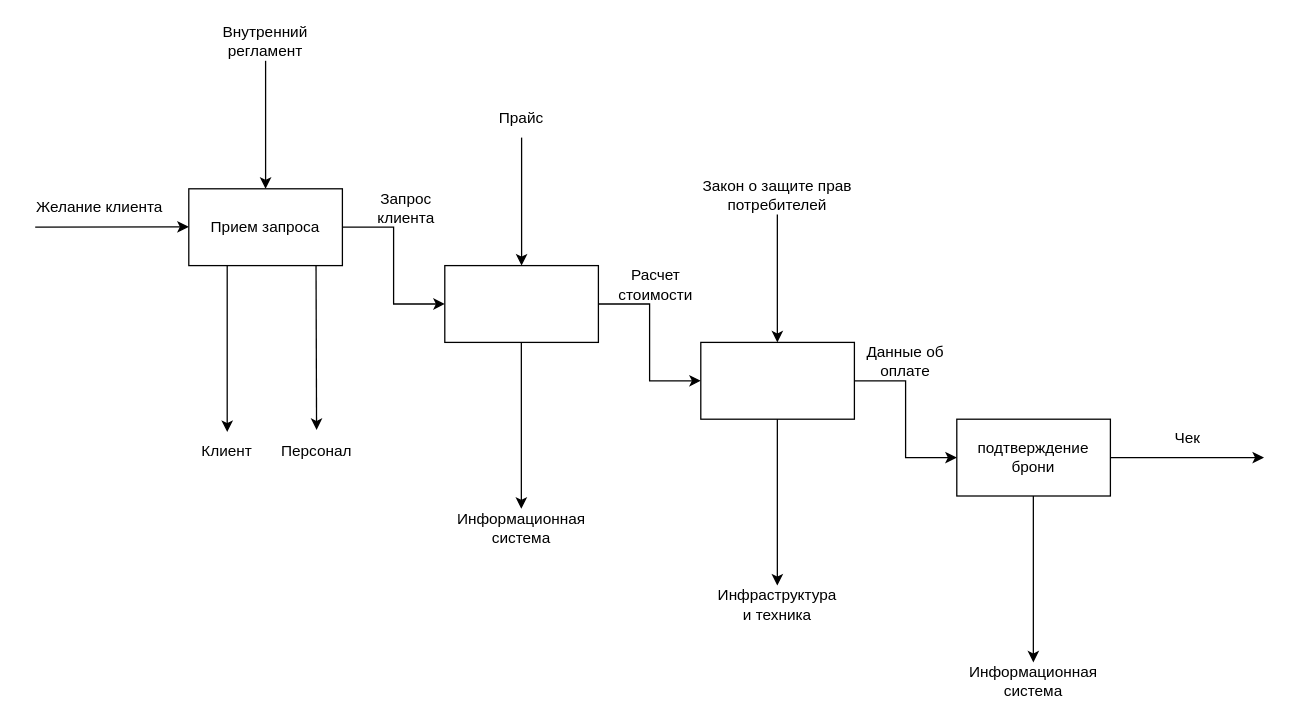
Some shapes in this 1297 by 722 pixel diagram are drawn without their labels. Each missing label, with the centre of its shape:
"Оплата брони" belongs at pixel 777 380.
"Проверка доступности и рассчет стоимости" belongs at pixel 521 303.
